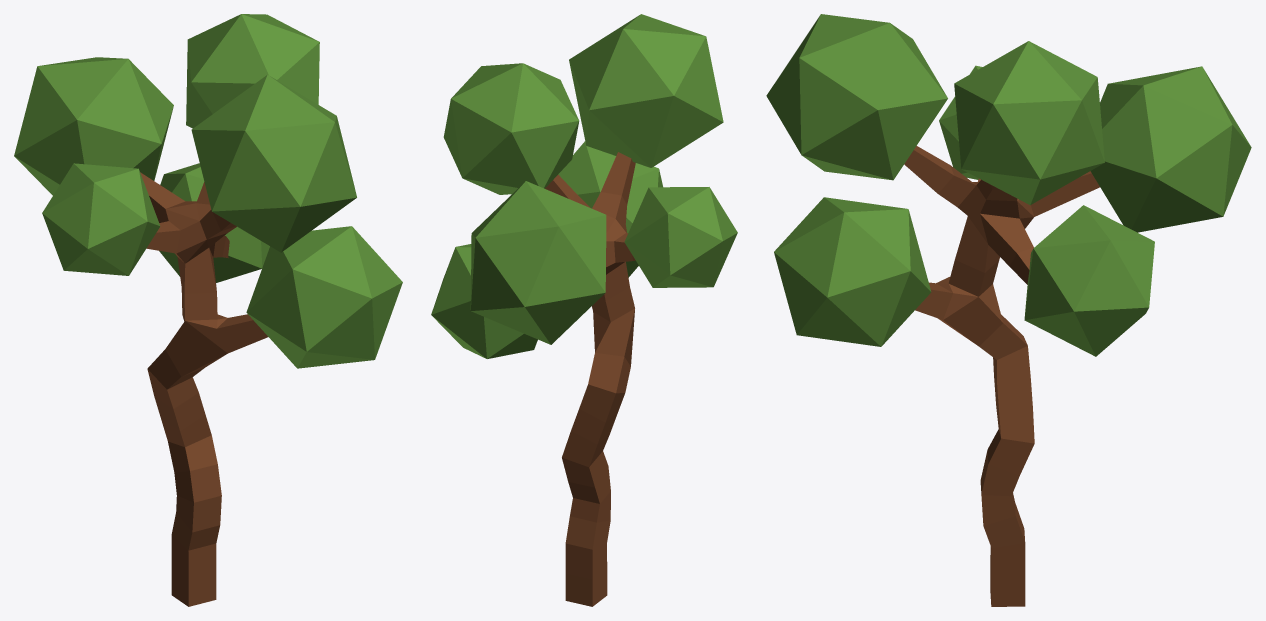
Rendered from medium tree.fbx.
3 views of the same model, side by side, from view 1: azimuth 30°, elevation 25°; view 2: azimuth 150°, elevation 25°; view 3: azimuth 270°, elevation 25° (orthographic). The views are drawn at different scales.
Parts seen in each view (by area): view 1: tree 2; view 2: tree 2; view 3: tree 2.
Boxes of the visible parts, box(x1,y1,x2,y2) form: tree 2: box(14, 14, 402, 606); tree 2: box(431, 14, 737, 606); tree 2: box(766, 14, 1251, 606).
Bounding box in the file's own units: 5.03 × 9.49 × 7.1.
